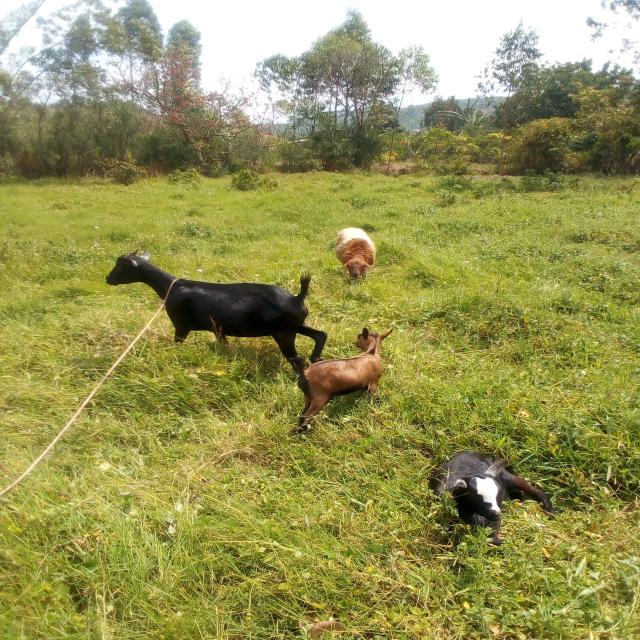goat: (64, 233, 345, 383)
